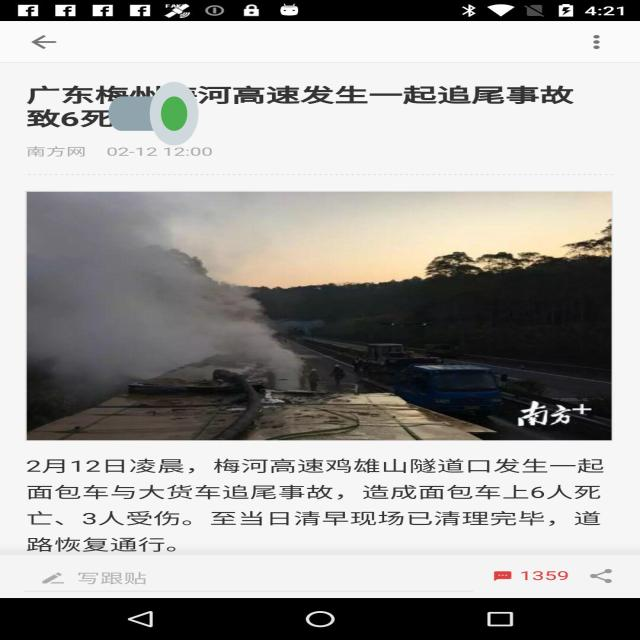social proof: (108, 54, 198, 172)
